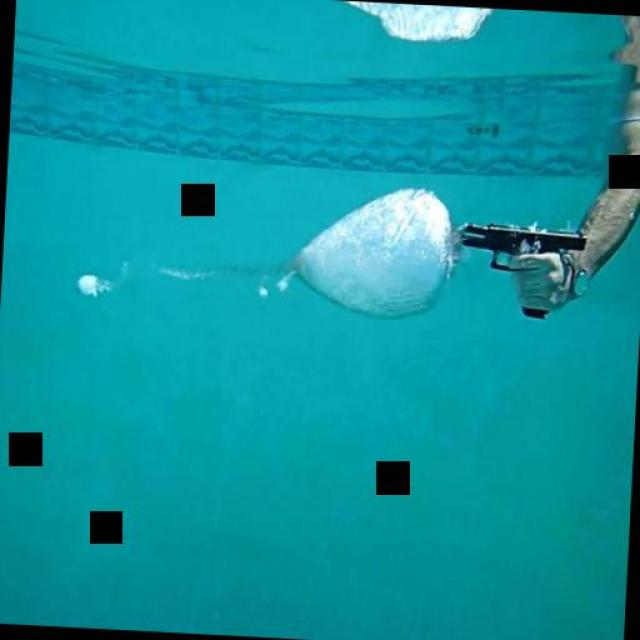gun: (458, 209, 586, 325)
